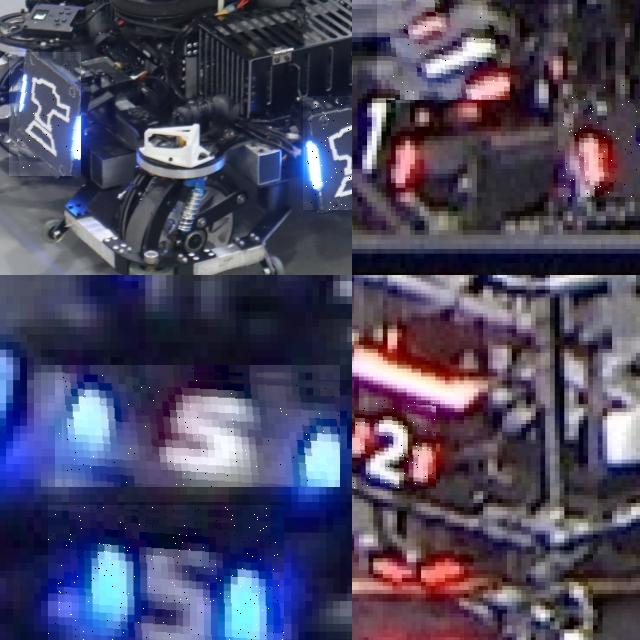B5: (55, 365, 340, 487), (47, 505, 284, 640)
Bs: (9, 52, 81, 176), (303, 95, 352, 210)
R1: (376, 0, 510, 100), (558, 84, 640, 197), (352, 77, 419, 190)
R2: (352, 398, 435, 489)
